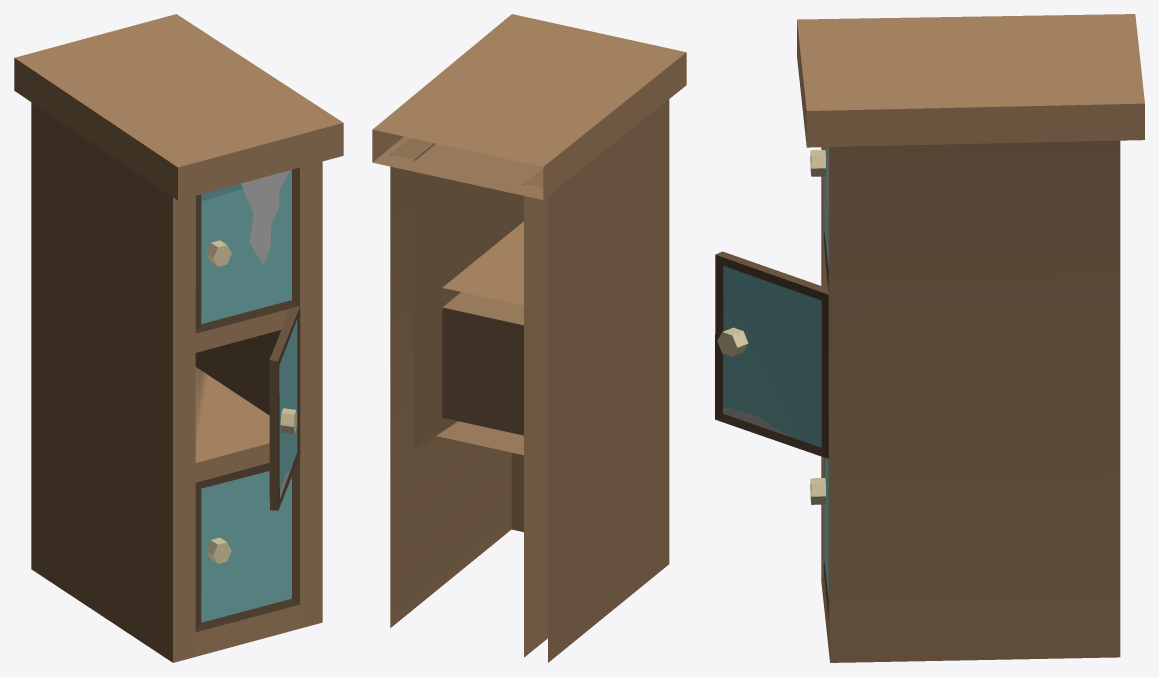
The model's file is MSH_QuestObject_cabinet_09.fbx.
3 views of the same model, side by side, from view 1: azimuth 30°, elevation 25°; view 2: azimuth 150°, elevation 25°; view 3: azimuth 270°, elevation 25° (orthographic). The views are drawn at different scales.
Visible parts, largest first — view 1: MSH_QuestObject_cabinet_09; view 2: MSH_QuestObject_cabinet_09; view 3: MSH_QuestObject_cabinet_09.
Part boxes in pixels (box(x1,y1,x2,y2)): MSH_QuestObject_cabinet_09: box(14, 14, 343, 662); MSH_QuestObject_cabinet_09: box(372, 14, 686, 662); MSH_QuestObject_cabinet_09: box(715, 14, 1144, 662).
Size of the model in its own units: 1.38 by 3.69 by 2.58.
